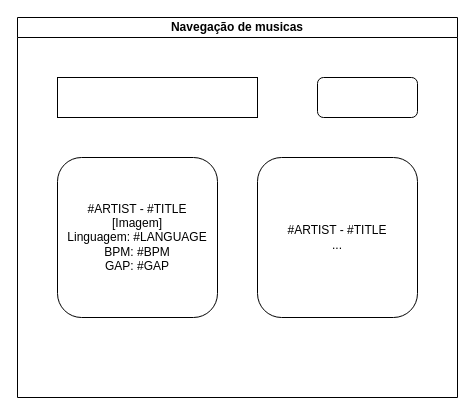
Image size: 475x415. Some labels were removed from this diagram. Here are the shapes that lost their labels. From the top down, the centre of each, then its label:
point (157, 97): Pesquisa por palavra chave
point (367, 97): Pesquisar
